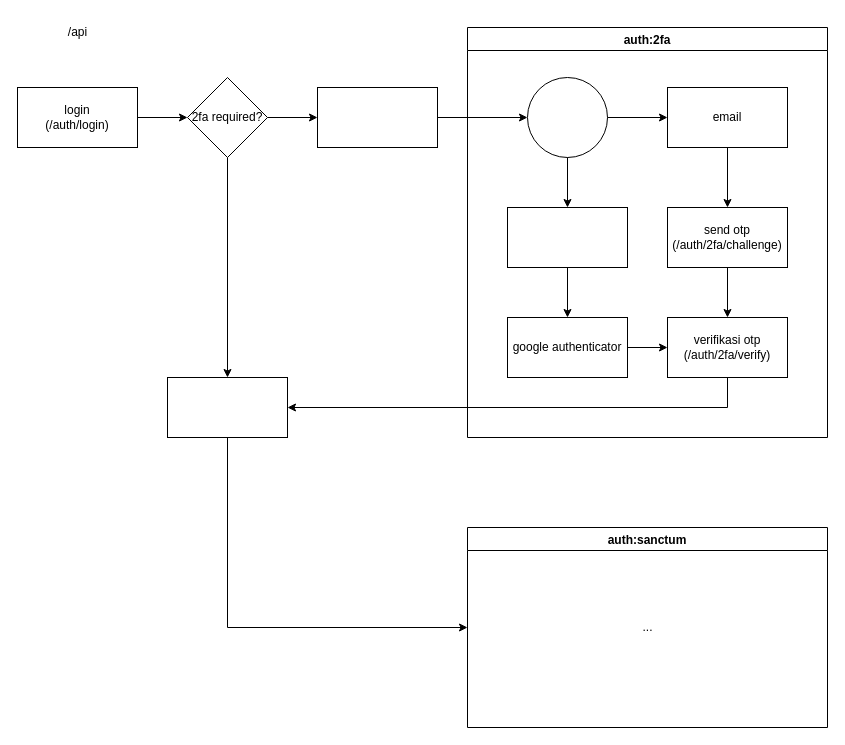
Image size: 845x745. Some labels were removed from this diagram. Here are the shapes that lost their labels. From the top down, the centre of each, then its label:
the point at 377,117: 2fa token (-h X-2FA-Token)
the point at 567,117: verification method (/auth/2fa)
the point at 567,237: google2fa
the point at 227,407: access token
